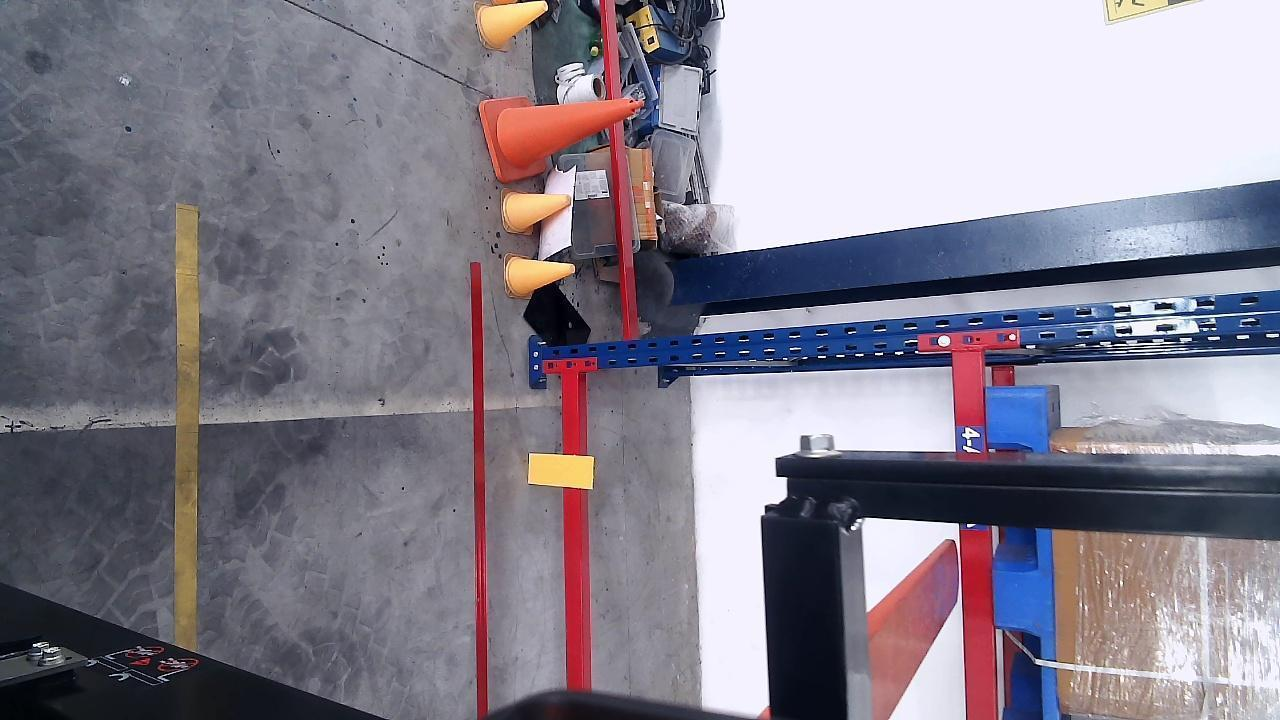red_line: (470, 262, 490, 715)
yellow_line: (173, 204, 198, 654)
